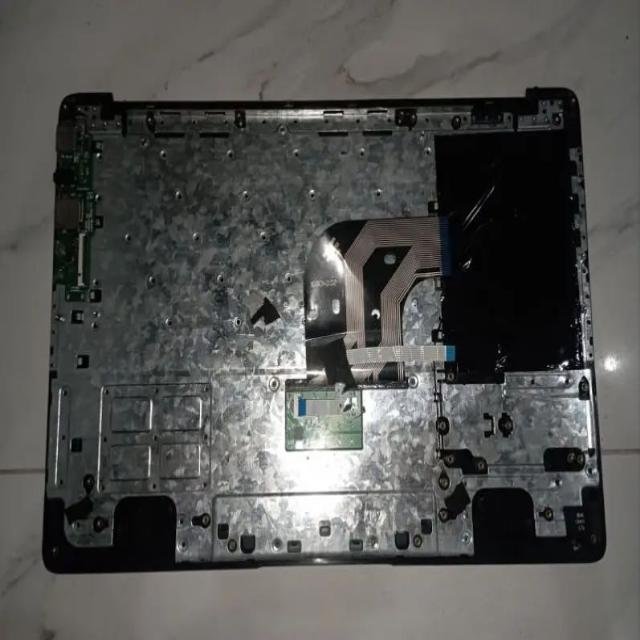electronic: (43, 86, 606, 573)
